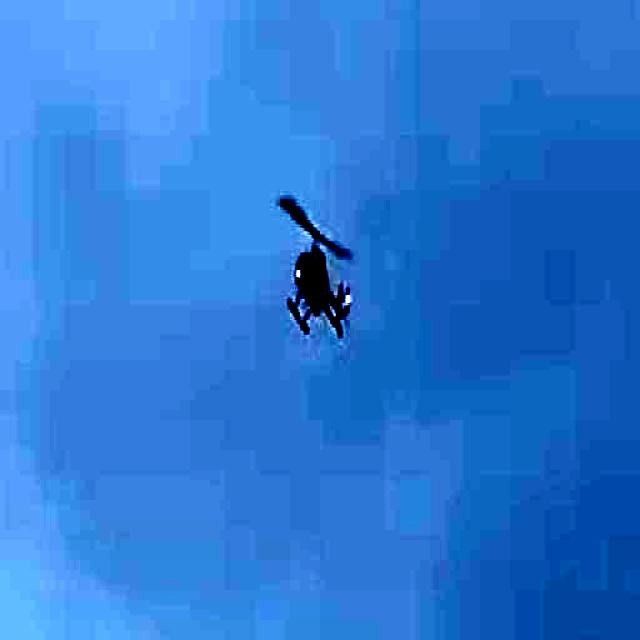drone: (272, 188, 354, 350)
